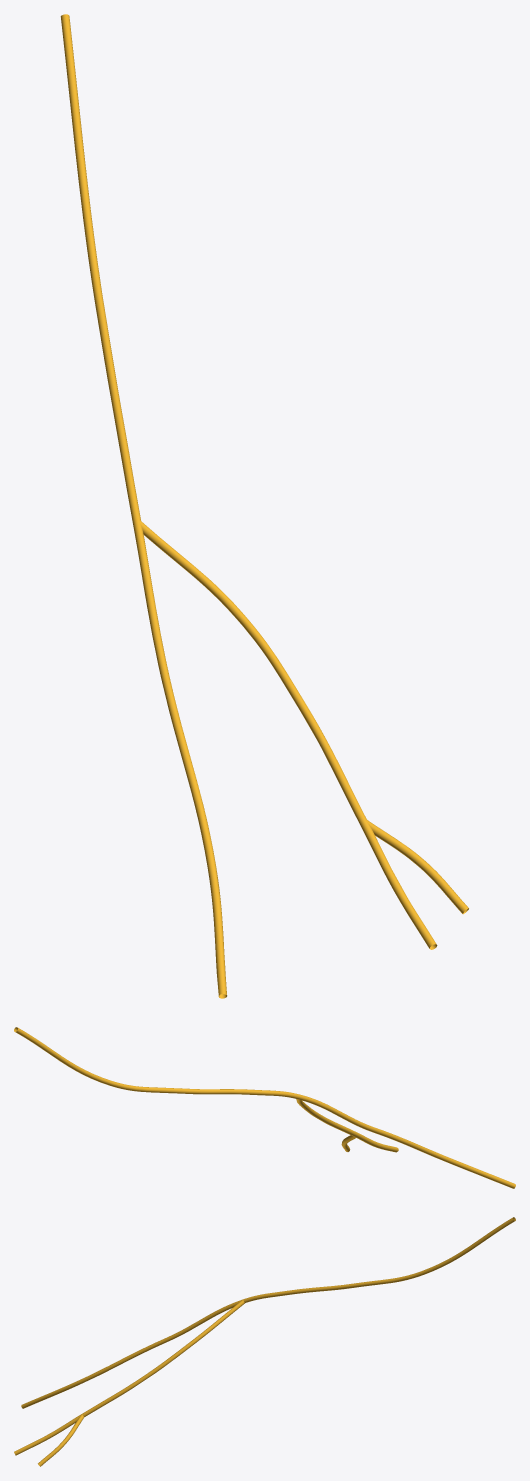
Rendered from nervoso-medial-dorsal-cutaneous-nerve-of-foot-l.glb.
The picture shows the model from 3 angles, top to bottom: view 1: azimuth 30°, elevation 25°; view 2: azimuth 150°, elevation 25°; view 3: azimuth 270°, elevation 25°; orthographic projection. The views are drawn at different scales.
Visible parts, largest first — view 1: Medial dorsal cutaneous nerve of foot.l; view 2: Medial dorsal cutaneous nerve of foot.l; view 3: Medial dorsal cutaneous nerve of foot.l.
Part boxes in pixels (x1=…): Medial dorsal cutaneous nerve of foot.l: x1=60, y1=14, x2=468, y2=998; Medial dorsal cutaneous nerve of foot.l: x1=14, y1=1027, x2=515, y2=1188; Medial dorsal cutaneous nerve of foot.l: x1=14, y1=1217, x2=515, y2=1466.
Bounding box in the file's own units: 0.0448 × 0.0684 × 0.1143.
